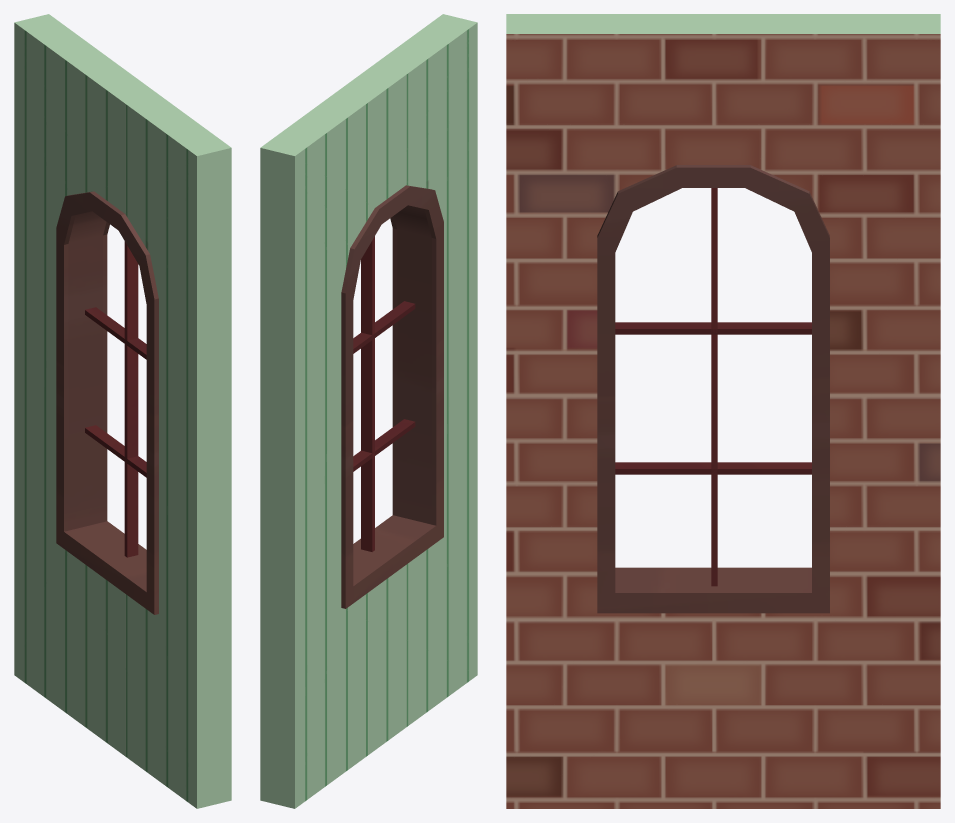
The model's file is smallWindow.fbx.
The picture shows the model from 3 angles, left to right: view 1: azimuth 30°, elevation 25°; view 2: azimuth 150°, elevation 25°; view 3: azimuth 270°, elevation 25°; orthographic projection. The views are drawn at different scales.
Visible parts, largest first — view 1: smallWindow; view 2: smallWindow; view 3: smallWindow.
Part boxes in pixels (<box>): smallWindow: <box>14,14,231,808</box>; smallWindow: <box>260,14,477,808</box>; smallWindow: <box>506,14,940,808</box>.
Bounding box in the file's own units: 0.3137 × 4.5 × 2.28.
